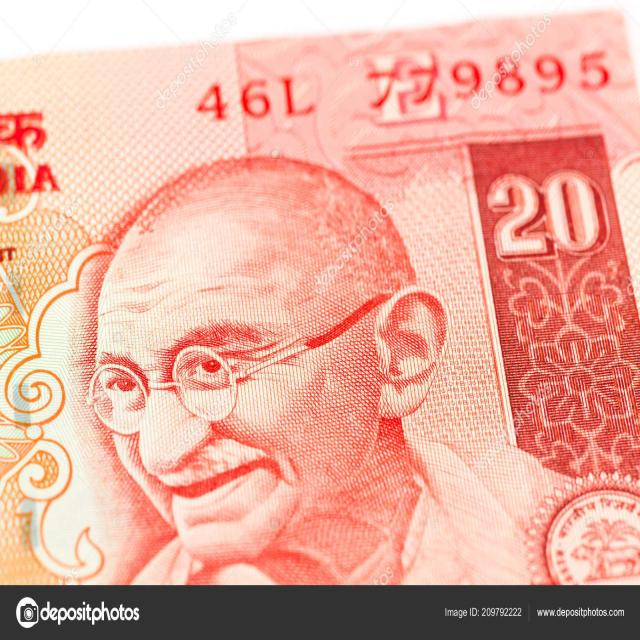20IndianRupees: (0, 38, 640, 585)
